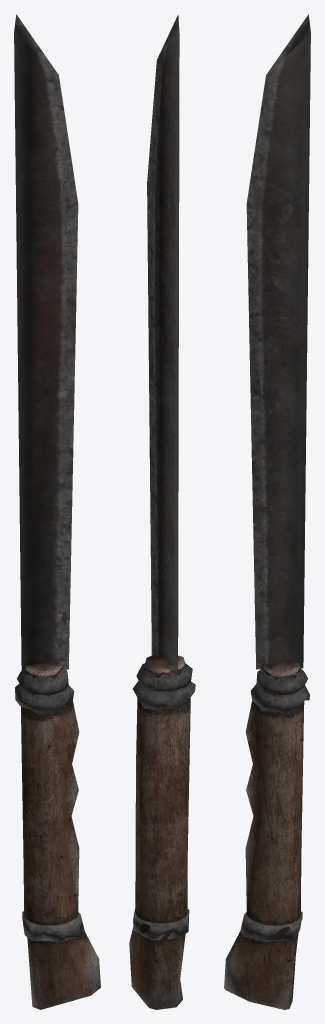
File: machete.glb
The picture shows the model from 3 angles, left to right: view 1: azimuth 90°, elevation 25°; view 2: azimuth 210°, elevation 25°; view 3: azimuth 270°, elevation 25°; orthographic projection.
Visible parts, largest first — view 1: machete; view 2: machete; view 3: machete.
Part boxes in pixels (x1,y1,x2,y2): machete: [14, 14, 100, 1009]; machete: [129, 15, 195, 1009]; machete: [224, 14, 310, 1009].
Size of the model in its own units: 0.0436 by 0.7518 by 0.0598.
1 material, 1 textured.
